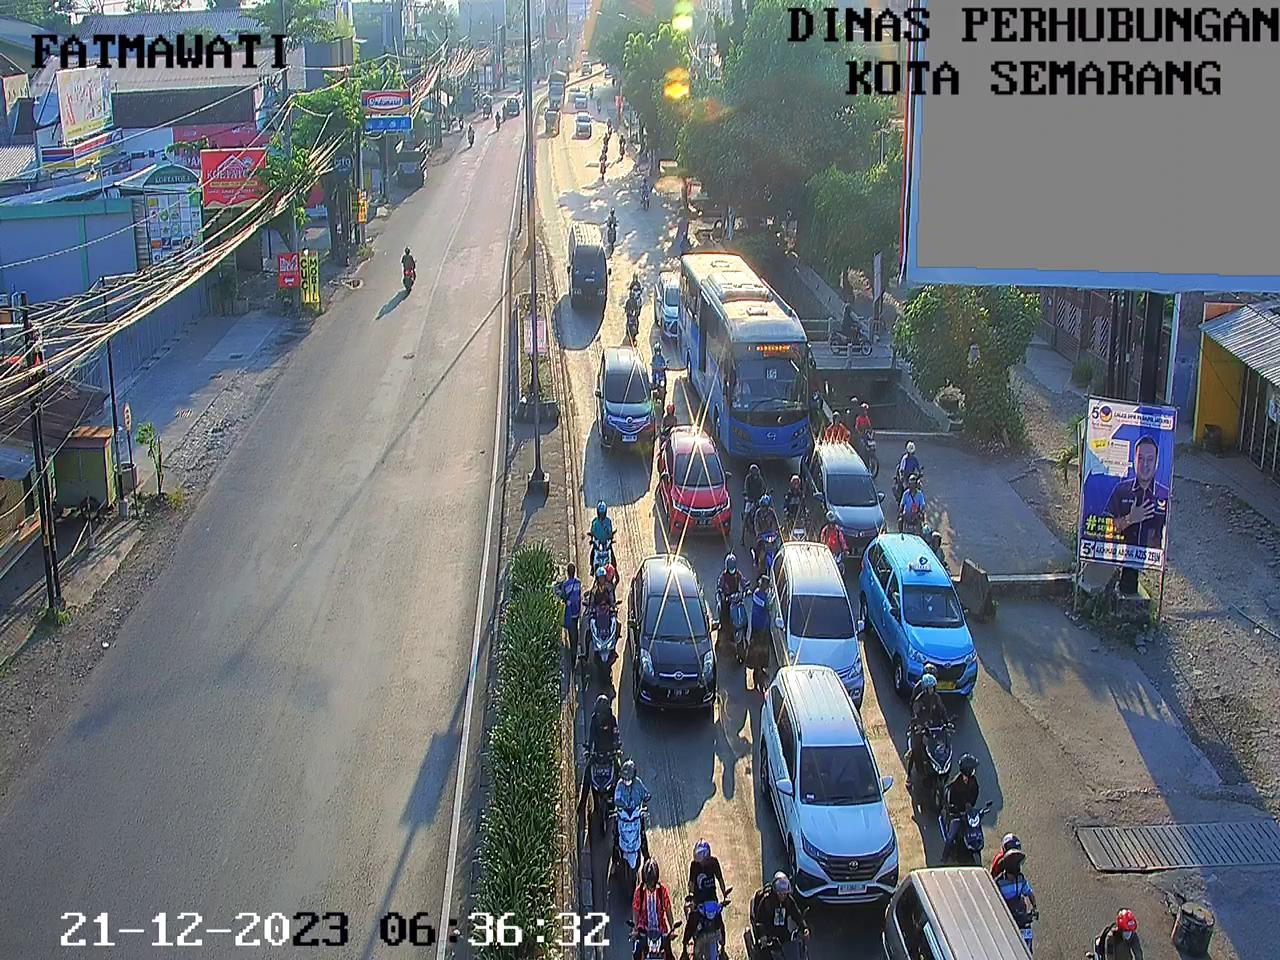bus: (678, 245, 813, 472)
car: (754, 666, 904, 913), (862, 534, 978, 702), (763, 538, 867, 705), (626, 552, 719, 715), (886, 868, 1033, 960), (805, 437, 890, 565), (653, 422, 736, 547), (597, 348, 664, 454), (559, 222, 616, 307), (653, 266, 688, 346), (573, 112, 592, 142), (546, 111, 562, 140), (566, 79, 583, 102), (577, 88, 587, 109)
motorcycle: (906, 670, 962, 828), (579, 695, 633, 838), (611, 760, 663, 899), (678, 842, 738, 960), (938, 758, 998, 871), (989, 836, 1044, 950), (631, 857, 690, 960), (744, 877, 813, 960), (582, 570, 627, 688), (717, 556, 752, 661), (581, 491, 620, 584), (1084, 905, 1150, 960), (845, 399, 885, 475), (805, 353, 834, 441), (893, 442, 928, 507), (738, 461, 773, 524), (818, 506, 848, 582), (753, 498, 780, 565), (780, 479, 803, 547), (925, 523, 953, 577), (900, 483, 928, 531), (649, 337, 670, 398), (622, 293, 645, 345), (826, 406, 852, 448), (658, 403, 685, 441), (640, 177, 658, 222), (627, 273, 643, 318), (676, 193, 701, 221), (606, 208, 621, 248), (678, 225, 693, 263), (594, 155, 612, 186), (594, 93, 609, 123), (600, 133, 616, 158), (602, 112, 615, 134), (617, 135, 628, 155), (587, 83, 597, 99)
truck: (549, 71, 567, 114)
